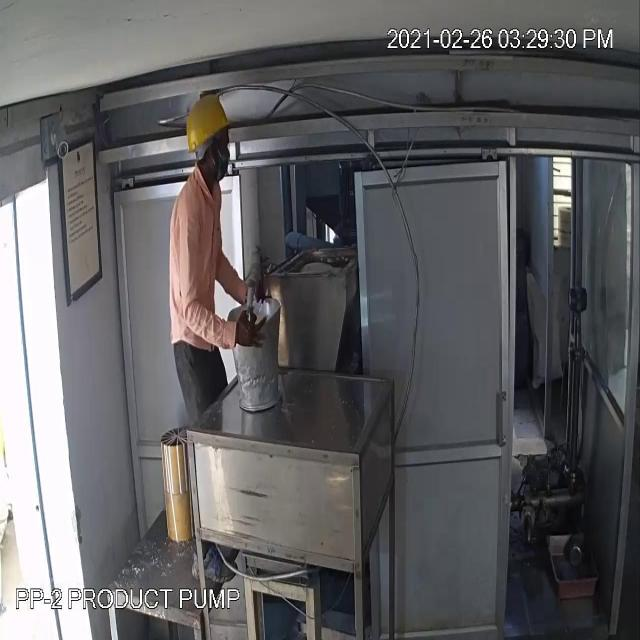helmet: (181, 87, 239, 158)
